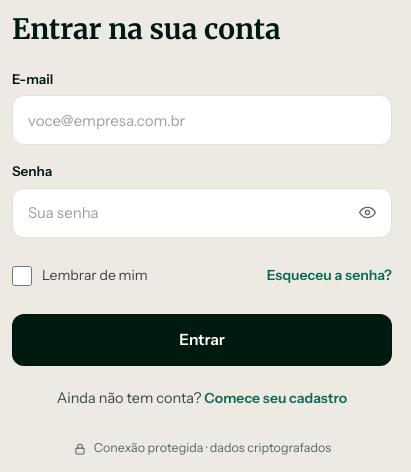
Test: LoginForm — two-step login › shows a neutral error on an invalid code
Type "admin@empresa.com.br" into the field labelled "E-mail" at point(202, 120), box [12,95,392,145]
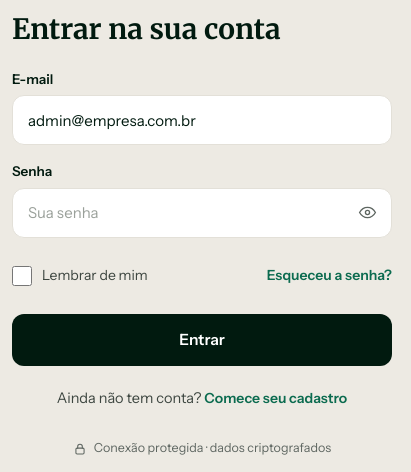
Type "s3nh4-valida" into the password field labelled "Senha" at point(202, 212), box [12,188,392,238]
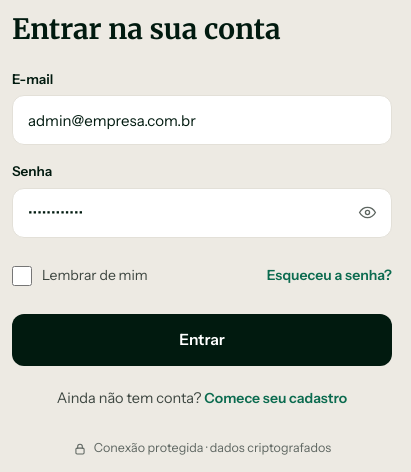
Click the button "Entrar" at point(202, 340), box [12,314,392,366]
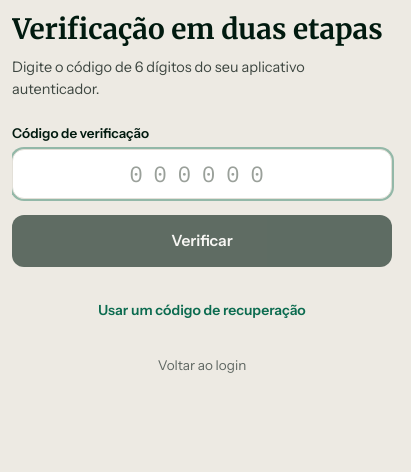
Now the heading "Verificação em duas etapas" is shown, box [12,12,392,47]
Type "123456" into the field labelled "Código de verificação" at point(202, 174), box [12,149,392,199]
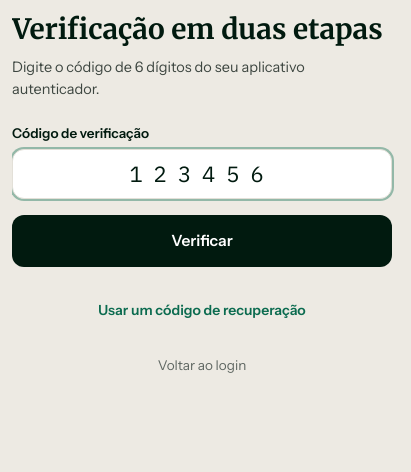
Click the button "Verificar" at point(202, 241), box [12,215,392,267]
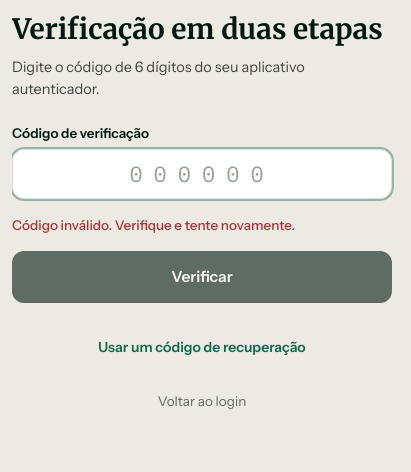
Now the text "Código inválido. Verifique e tente novamente." is shown, box [12,217,295,233]
